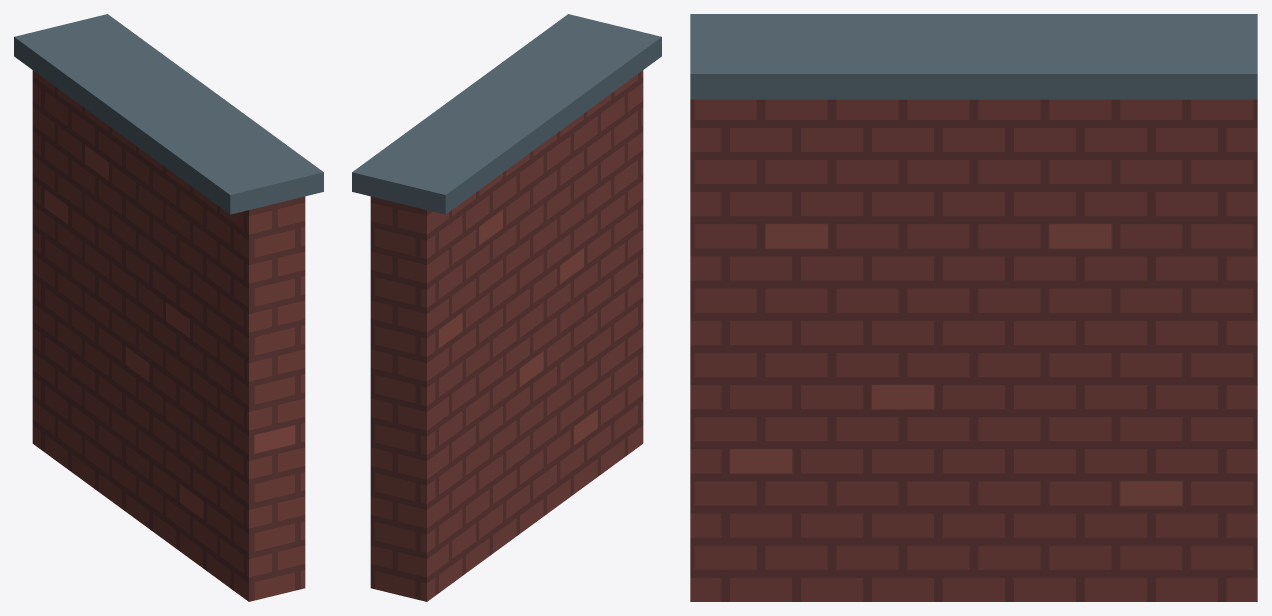
The model's file is SM_wallAttic_01_half.glb.
3 renders of one model, left to right at view 1: azimuth 30°, elevation 25°; view 2: azimuth 150°, elevation 25°; view 3: azimuth 270°, elevation 25°, orthographic. The views are drawn at different scales.
Visible parts, largest first — view 1: SM_wallAttic_01_half; view 2: SM_wallAttic_01_half; view 3: SM_wallAttic_01_half.
Boxes of the visible parts, <box> form: SM_wallAttic_01_half: <box>14,14,323,601</box>; SM_wallAttic_01_half: <box>352,14,661,601</box>; SM_wallAttic_01_half: <box>690,14,1257,601</box>.
Bounding box in the file's own units: 0.5 × 2.1 × 2.
2 materials, 2 textured.
